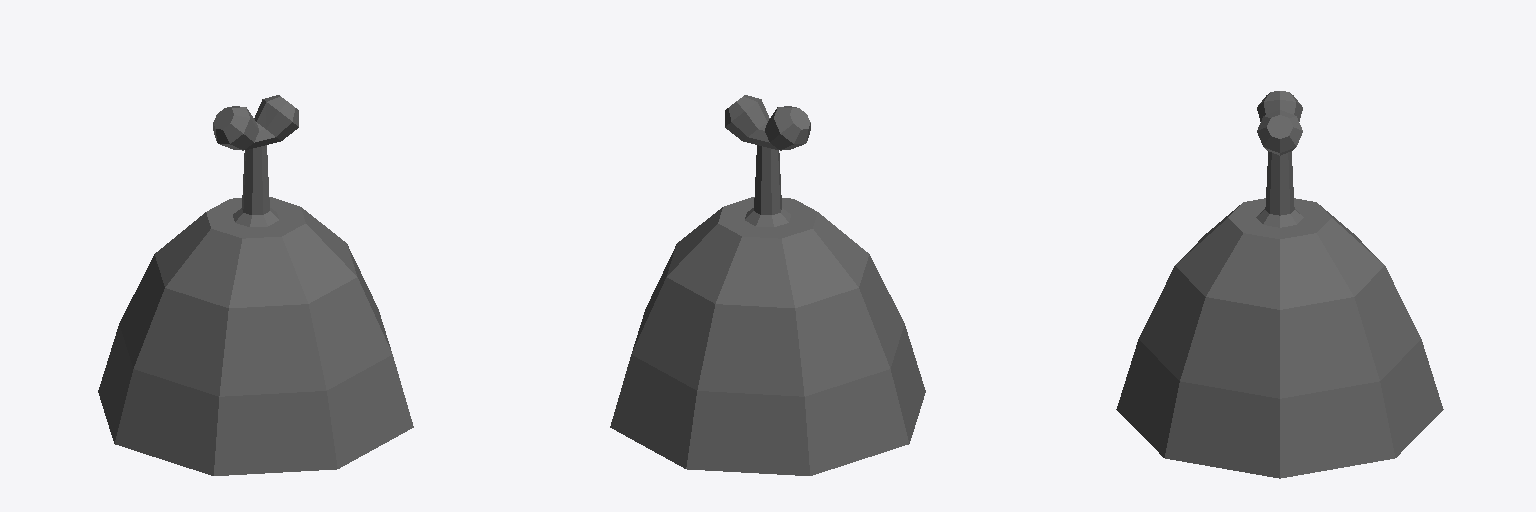
Rendered from Ham.obj.
The picture shows the model from 3 angles: view 1: azimuth 30°, elevation 25°; view 2: azimuth 150°, elevation 25°; view 3: azimuth 270°, elevation 25°; orthographic projection.
Parts seen in each view (by area): view 1: Ham; view 2: Ham; view 3: Ham.
Part boxes in pixels (x1,y1,x2,y2): Ham: (98, 95, 413, 475); Ham: (610, 95, 925, 475); Ham: (1116, 91, 1443, 478).
Bounding box in the file's own units: 20.03 × 20.75 × 20.03.